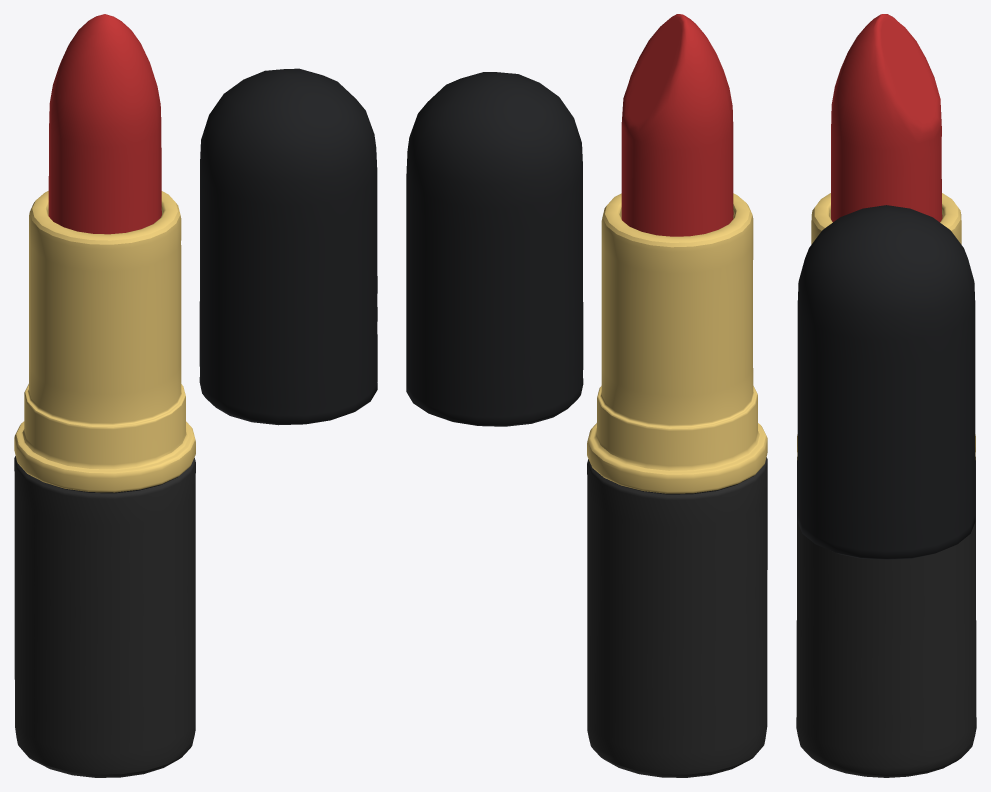
The picture shows the model from 3 angles, left to right: view 1: azimuth 30°, elevation 25°; view 2: azimuth 150°, elevation 25°; view 3: azimuth 270°, elevation 25°; orthographic projection.
Parts seen in each view (by area): view 1: Lipstick Tube, Lipstick Cap, Lipstick _Lipstick_0; view 2: Lipstick Tube, Lipstick Cap, Lipstick _Lipstick_0; view 3: Lipstick Cap, Lipstick Tube, Lipstick _Lipstick_0.
Boxes of the visible parts, x1,y1,x2,y2 form: Lipstick Tube: (14,191,195,777); Lipstick Cap: (199,68,377,425); Lipstick _Lipstick_0: (48,14,161,234); Lipstick Tube: (587,193,767,777); Lipstick Cap: (406,72,583,426); Lipstick _Lipstick_0: (621,14,733,236); Lipstick Cap: (797,205,975,559); Lipstick Tube: (796,193,976,777); Lipstick _Lipstick_0: (831,14,942,222).
Bounding box in the file's own units: 2.26 × 4.66 × 1.04.
4 materials, 2 textured.
